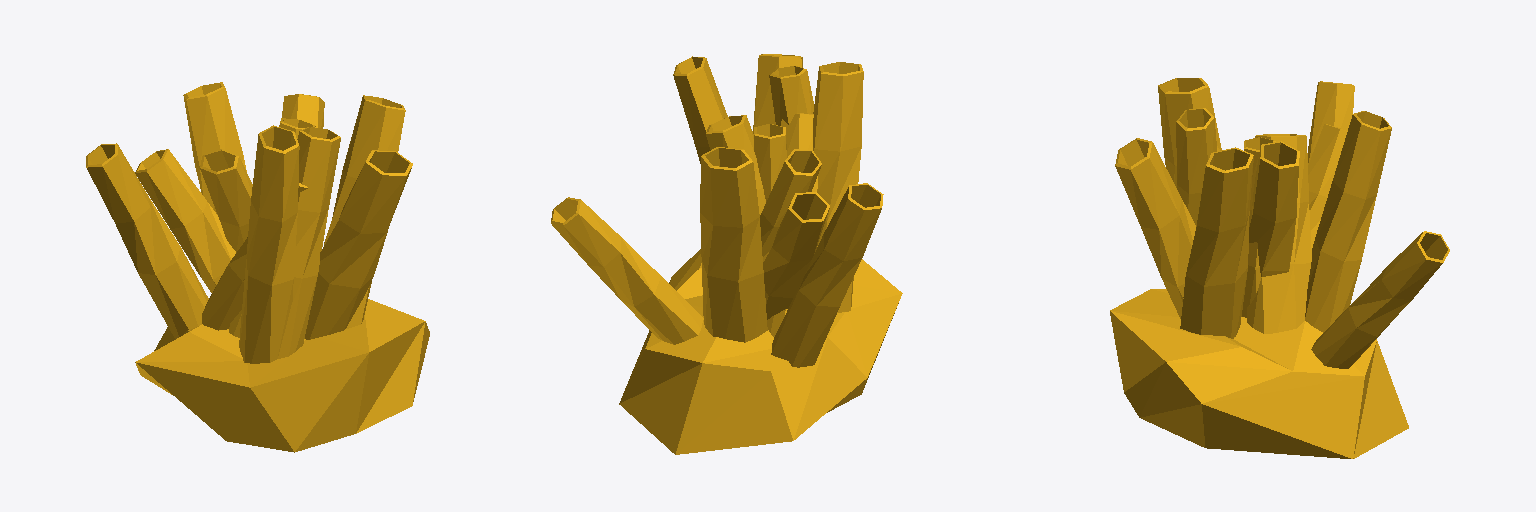
Rendered from Mesh_Sponge.obj.
The picture shows the model from 3 angles: view 1: azimuth 30°, elevation 25°; view 2: azimuth 150°, elevation 25°; view 3: azimuth 270°, elevation 25°; orthographic projection.
Visible parts, largest first — view 1: Geo_Sponge; view 2: Geo_Sponge; view 3: Geo_Sponge.
Boxes of the visible parts, box(x1,y1,x2,y2) form: Geo_Sponge: box(86, 82, 429, 452); Geo_Sponge: box(551, 54, 902, 454); Geo_Sponge: box(1110, 78, 1449, 458).
Size of the model in its own units: 40.32 by 43.79 by 41.91.